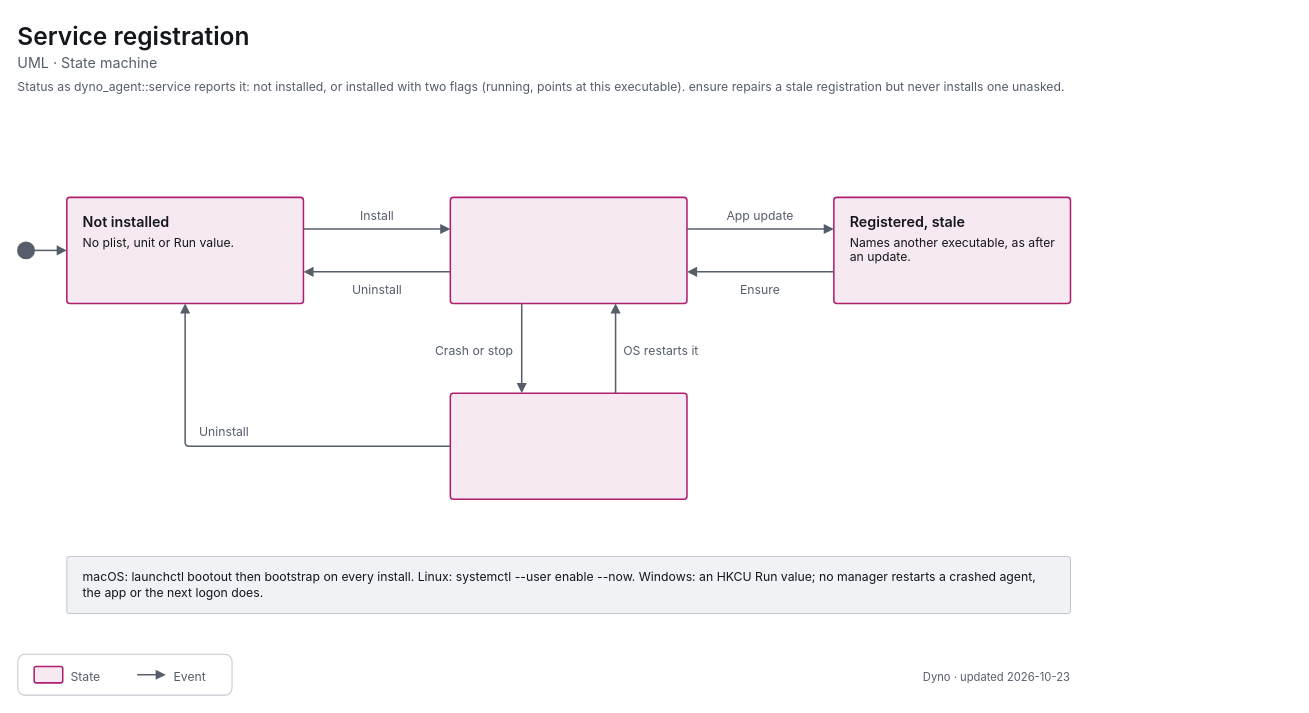
Some shapes in this 1309 by 713 pixel diagram are drawn without their labels. Each missing label, with the centre of its shape:
"Registered, not running Points at the current executable." goes at (x=568, y=446).
"Registered, running Points at the current executable." goes at (x=568, y=250).
